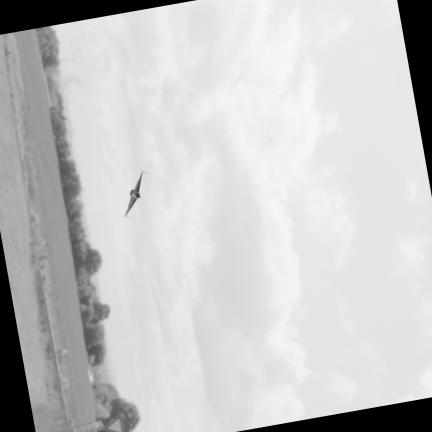Shahed: (122, 168, 152, 223)
